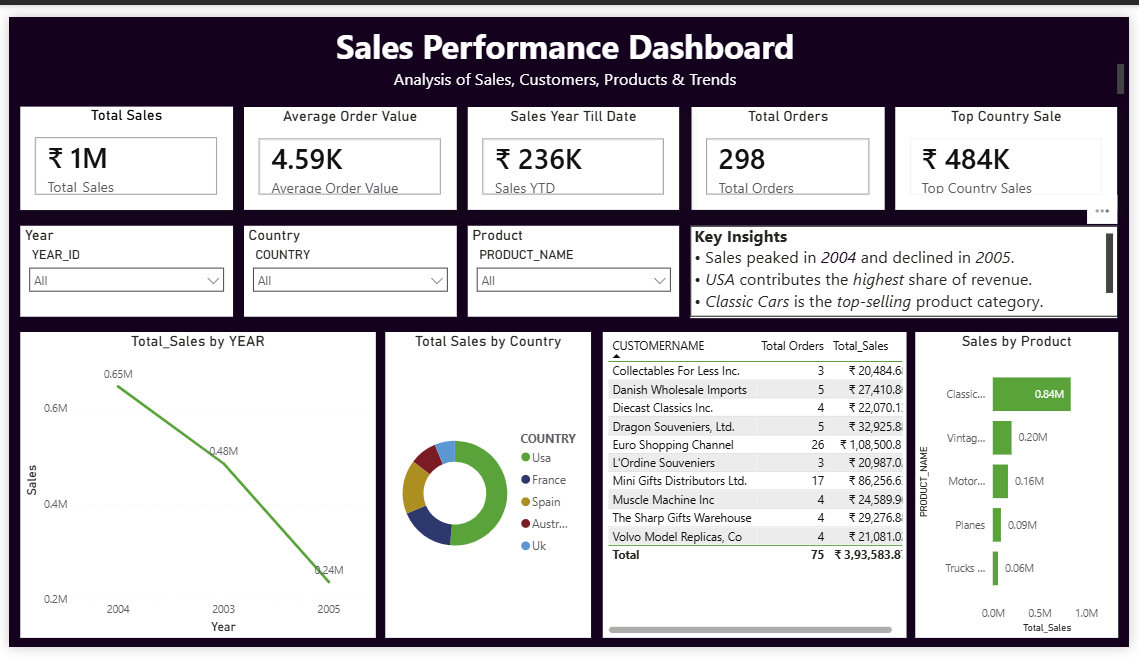

Layout of this report page (visuals, bound fields, positions):
{"tool":"powerbi","page":{"name":"Sales Dashboard","canvas":[1280,720],"ordinal":0},"visuals":[{"type":"cardVisual","title":"Total Sales","fields":{"Data":["Dim_Date.Total_Sales"]},"box":[12.3,101.8,242.9,119],"z":0},{"type":"cardVisual","title":"Total Orders","fields":{"Data":["Dim_Date.Total Orders"]},"box":[779.5,103.1,220.9,117.8],"z":1000},{"type":"cardVisual","title":"Average Order Value","fields":{"Data":["Dim_Date.Average Order Value"]},"box":[268.4,103.1,242.9,117.8],"z":2000},{"type":"cardVisual","title":"Sales Year Till Date","fields":{"Data":["Dim_Date.Sales YTD"]},"box":[524.5,103.1,241.7,117.8],"z":3000},{"type":"lineChart","title":"Total_Sales by YEAR","fields":{"Y":["Dim_Date.Total_Sales"],"Category":["Dim_Date.YEAR_ID"]},"box":[12.3,359.5,406.1,349.7],"z":4000},{"type":"barChart","title":"Sales by Product","fields":{"Category":["Dim_Product.PRODUCT_NAME"],"Y":["Dim_Date.Total_Sales"]},"box":[1035.6,359.5,231.9,349.7],"z":5000},{"type":"tableEx","fields":{"Values":["Dim_customer.CUSTOMERNAME","Dim_Date.Total Orders","Dim_Date.Total_Sales"]},"box":[678.5,359.5,347.2,349.7],"z":6000},{"type":"donutChart","title":"Total Sales by Country","fields":{"Y":["Dim_Date.Total_Sales"],"Category":["Dim_customer.COUNTRY"]},"box":[430.7,359.5,235.6,349.7],"z":7000},{"type":"slicer","title":"Year","fields":{"Values":["Dim_Date.YEAR_ID"]},"box":[12.3,238,242.9,104.3],"z":8000},{"type":"slicer","title":"Country","fields":{"Values":["Dim_customer.COUNTRY"]},"box":[268.3,238,242.9,104.3],"z":9000},{"type":"slicer","title":"Product","fields":{"Values":["Dim_Product.PRODUCT_NAME"]},"box":[524.3,239.3,241.7,104.3],"z":10000},{"type":"textbox","box":[0,0,1279.6,102.1],"z":11000},{"type":"cardVisual","title":"Top Country Sale","fields":{"Data":["Dim_Date.Top Country Sales"]},"box":[1013.5,103.1,254,117.8],"z":12000},{"type":"textbox","box":[779.1,238,488.3,105.5],"z":12001}]}

Visuals, with their boxes in screenshot pixels (x1, y1, x2, y2):
"Total Sales" cardVisual: [left=14, top=104, right=227, bottom=209]
"Total Orders" cardVisual: [left=687, top=105, right=881, bottom=209]
"Average Order Value" cardVisual: [left=239, top=105, right=452, bottom=209]
"Sales Year Till Date" cardVisual: [left=463, top=105, right=675, bottom=209]
"Total_Sales by YEAR" lineChart: [left=14, top=330, right=370, bottom=637]
"Sales by Product" barChart: [left=912, top=330, right=1115, bottom=637]
tableEx - Dim_customer.CUSTOMERNAME x Dim_Date.Total Orders: [left=598, top=330, right=903, bottom=637]
"Total Sales by Country" donutChart: [left=381, top=330, right=588, bottom=637]
"Year" slicer: [left=14, top=224, right=227, bottom=315]
"Country" slicer: [left=238, top=224, right=452, bottom=315]
"Product" slicer: [left=463, top=225, right=675, bottom=316]
textbox: [left=3, top=15, right=1126, bottom=104]
"Top Country Sale" cardVisual: [left=892, top=105, right=1115, bottom=209]
textbox: [left=687, top=224, right=1115, bottom=316]
